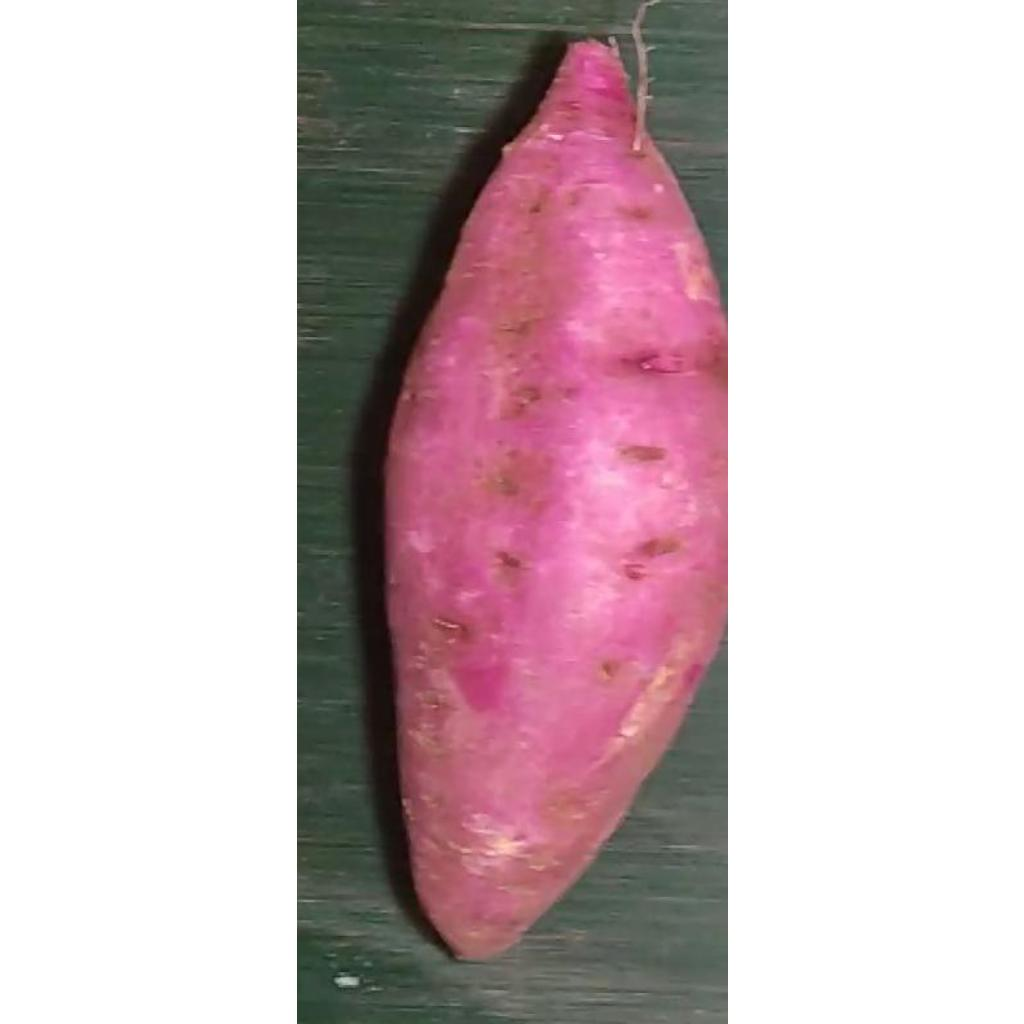Sweet Potato: (383, 39, 728, 967)
